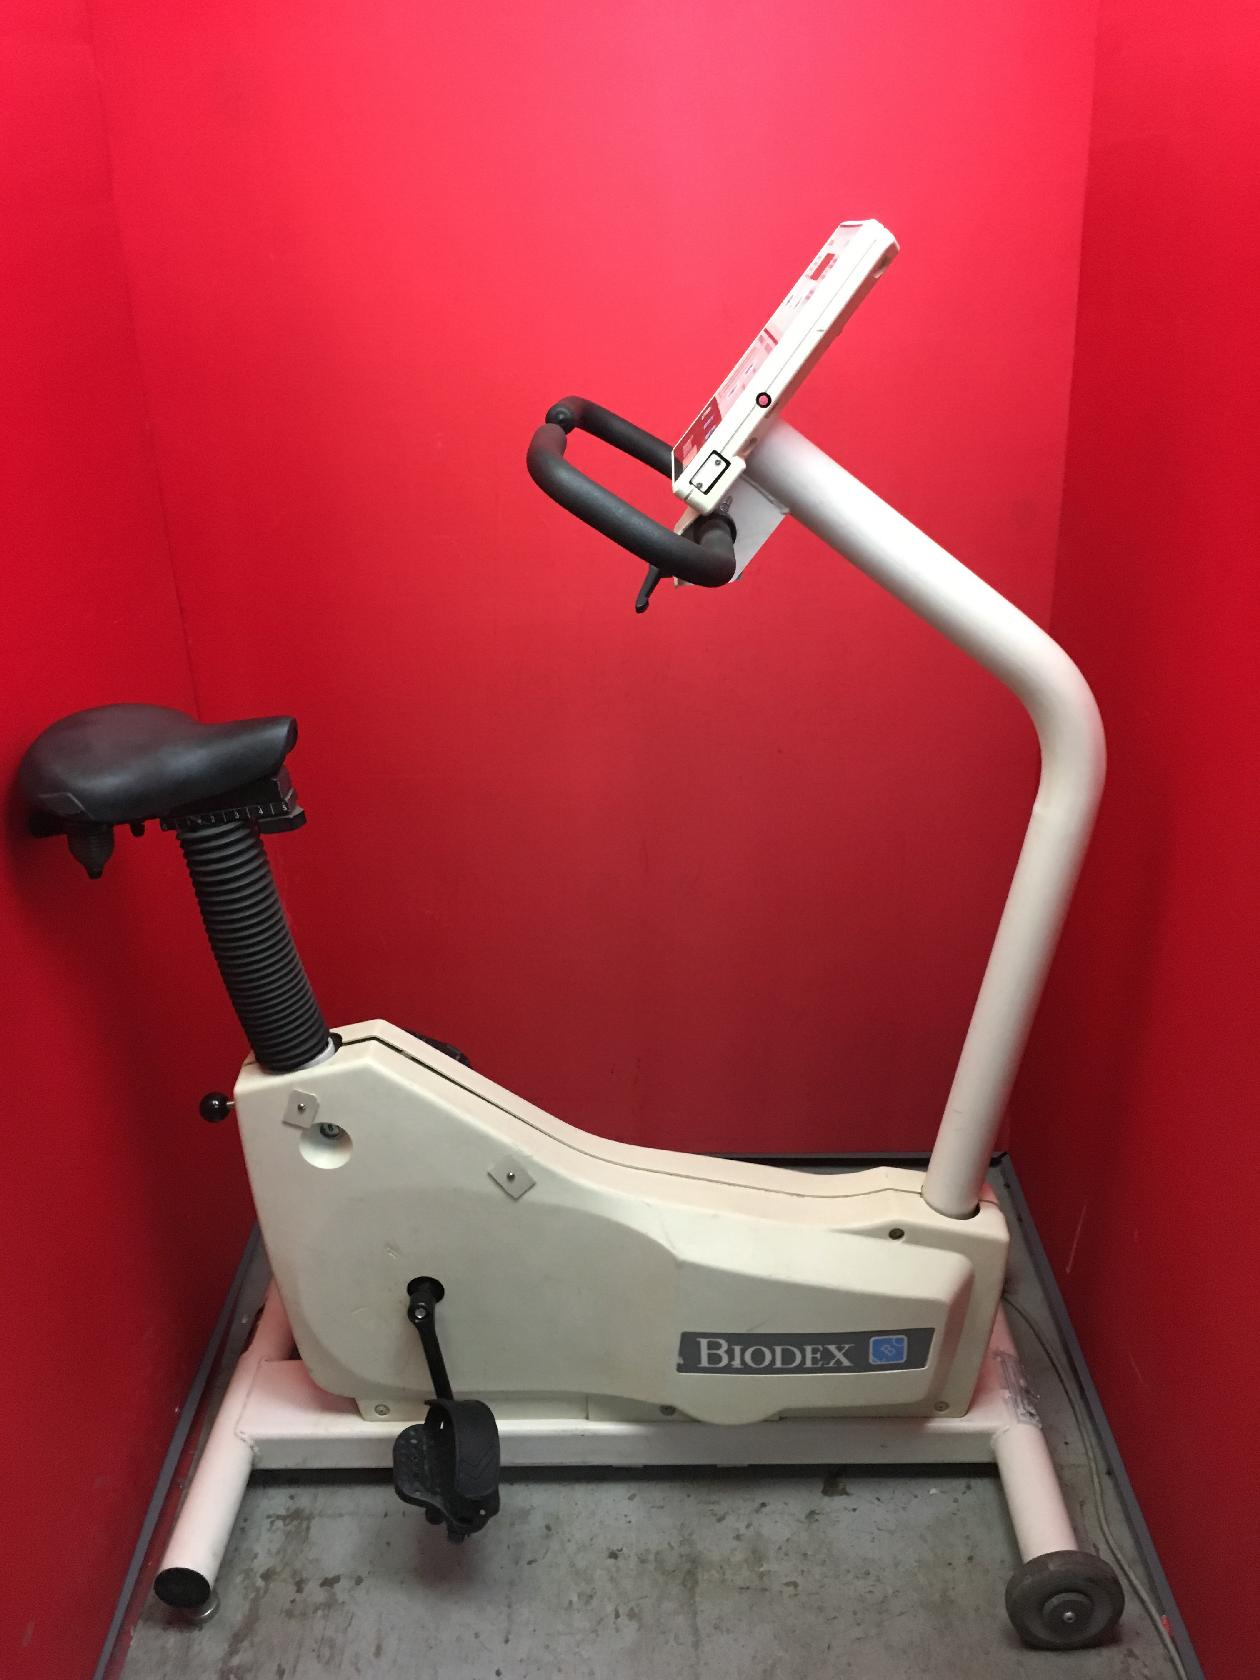gym_bike: (22, 216, 1204, 1632)
